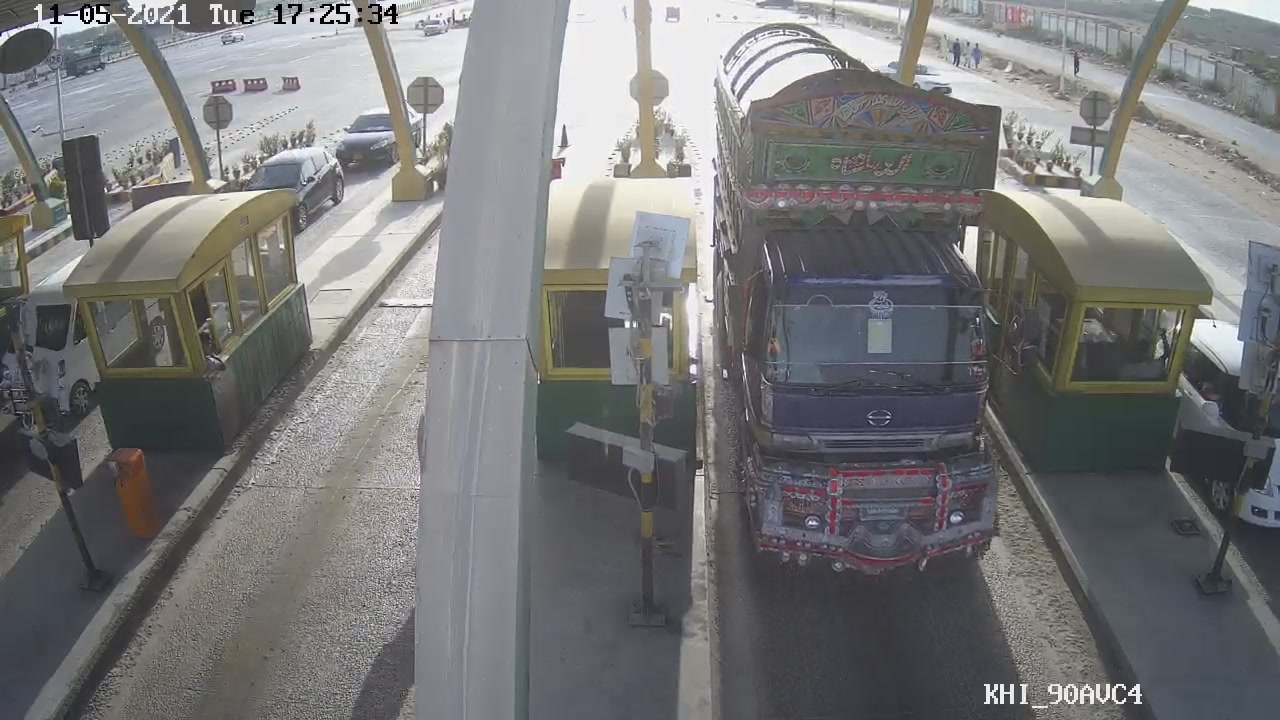F5: (707, 38, 1025, 598)
